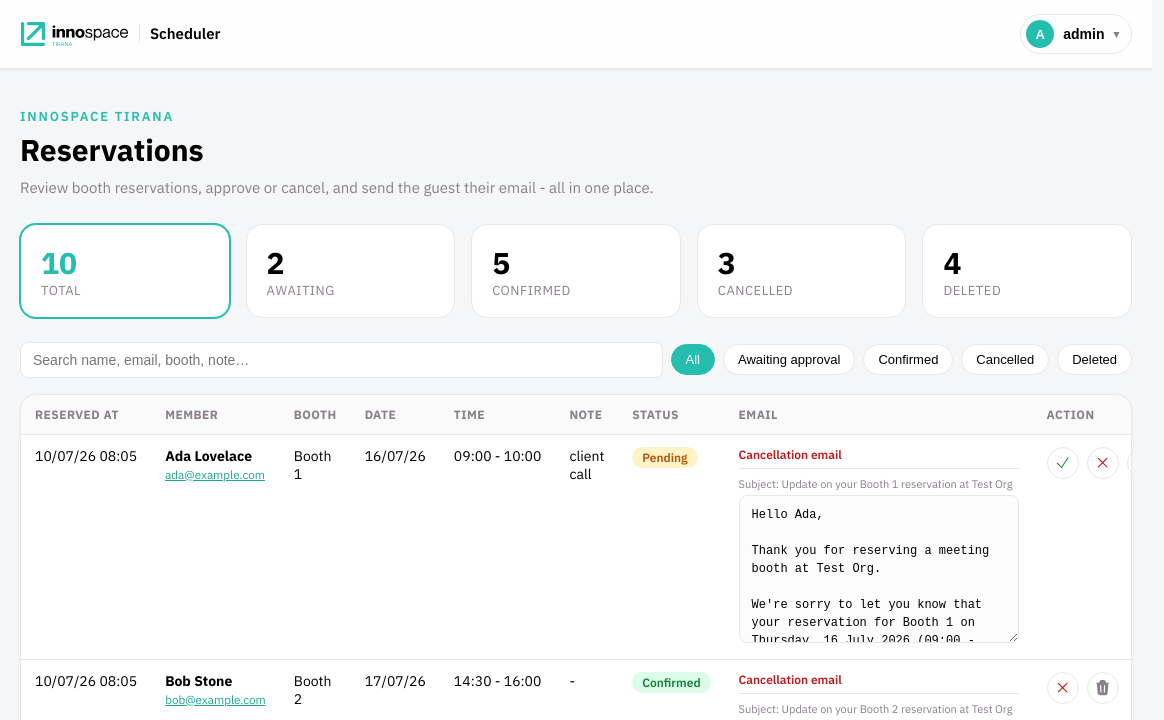
Test: filtering › lists what the server answers with
The image size is (1164, 720).
What coordinates should you click on to do the following:
click the button "Confirmed"
I would click on:
 (908, 360)
Its box is [863,344,953,375].
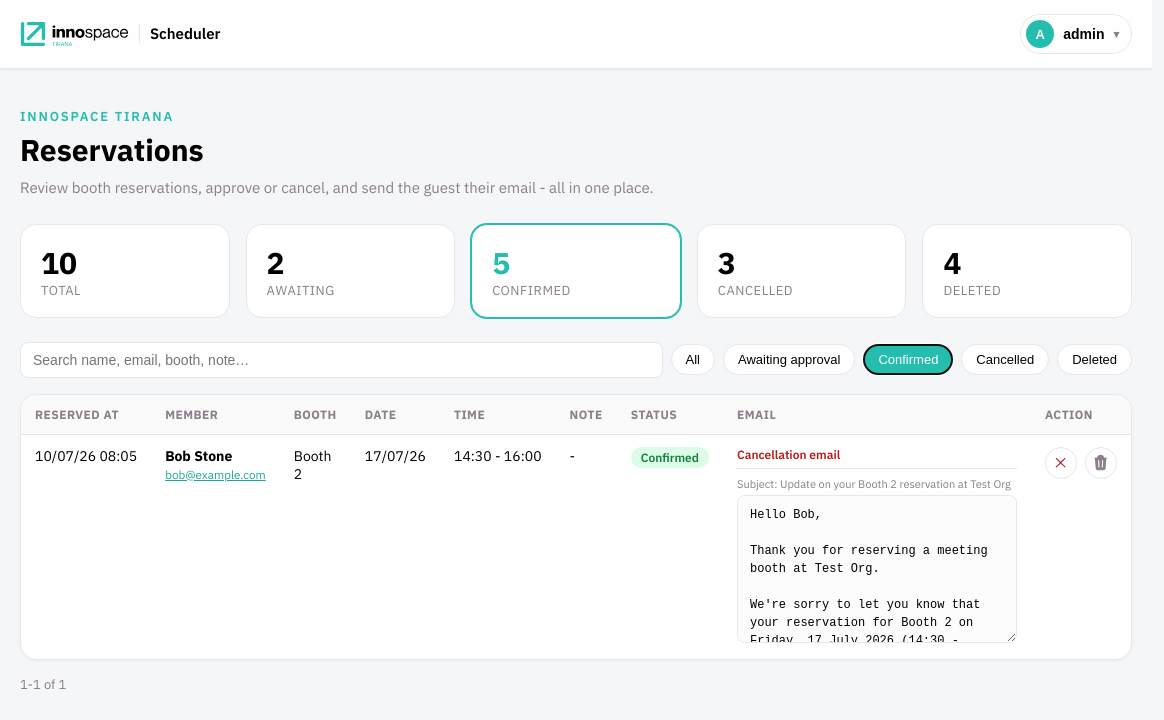
Result: the text "1-1 of 1" is shown at [20,676,66,692]
